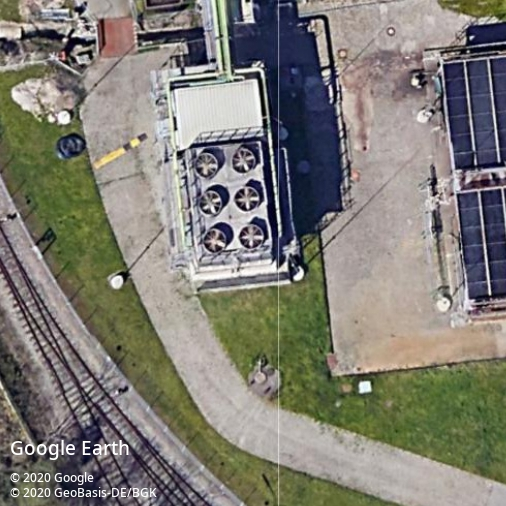Vent: (237, 223, 264, 250), (234, 186, 260, 212), (194, 153, 219, 179), (203, 228, 227, 254), (199, 190, 222, 216), (232, 148, 255, 173)
